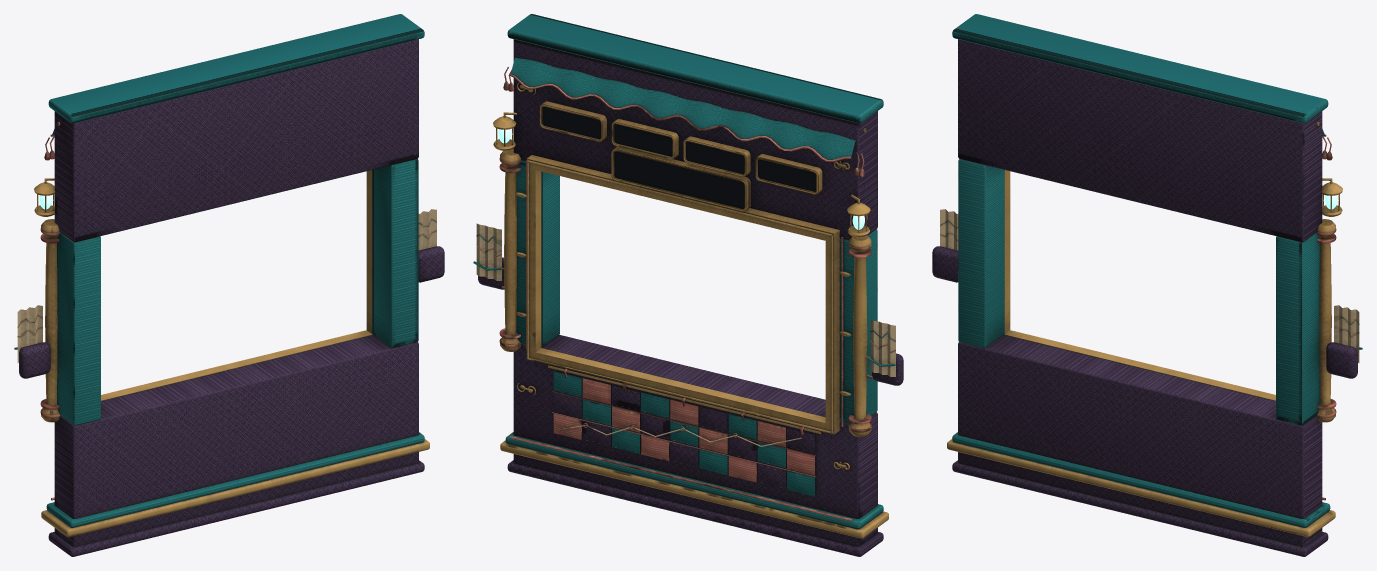
The picture shows the model from 3 angles, left to right: view 1: azimuth 30°, elevation 25°; view 2: azimuth 150°, elevation 25°; view 3: azimuth 330°, elevation 25°; orthographic projection.
Parts seen in each view (by area): view 1: Violet_lodge_upholstery, Teal_woven_cloth, Antique_brass_fittings, Warm_ivory_route_paper, Coral_woven_cloth; view 2: Violet_lodge_upholstery, Teal_woven_cloth, Antique_brass_fittings, Coral_woven_cloth, Plain_dark_display_enamel, Warm_ivory_route_paper; view 3: Violet_lodge_upholstery, Teal_woven_cloth, Antique_brass_fittings, Warm_ivory_route_paper, Coral_woven_cloth.
Boxes of the visible parts, <box> form: Violet_lodge_upholstery: <box>19,39,444,556</box>; Teal_woven_cloth: <box>14,14,435,527</box>; Antique_brass_fittings: <box>34,121,429,537</box>; Warm_ivory_route_paper: <box>17,209,436,362</box>; Coral_woven_cloth: <box>17,134,436,500</box>; Violet_lodge_upholstery: <box>478,39,903,556</box>; Teal_woven_cloth: <box>473,14,895,529</box>; Antique_brass_fittings: <box>493,82,888,538</box>; Coral_woven_cloth: <box>476,67,895,521</box>; Plain_dark_display_enamel: <box>542,106,816,208</box>; Warm_ivory_route_paper: <box>476,223,895,494</box>; Violet_lodge_upholstery: <box>932,39,1357,556</box>; Teal_woven_cloth: <box>940,14,1362,527</box>; Antique_brass_fittings: <box>947,121,1342,537</box>; Warm_ivory_route_paper: <box>940,209,1359,362</box>; Coral_woven_cloth: <box>943,134,1354,500</box>.
Bounding box in the file's own units: 10.02 × 10 × 1.33.
Materials: 7 (6 with a texture image).
